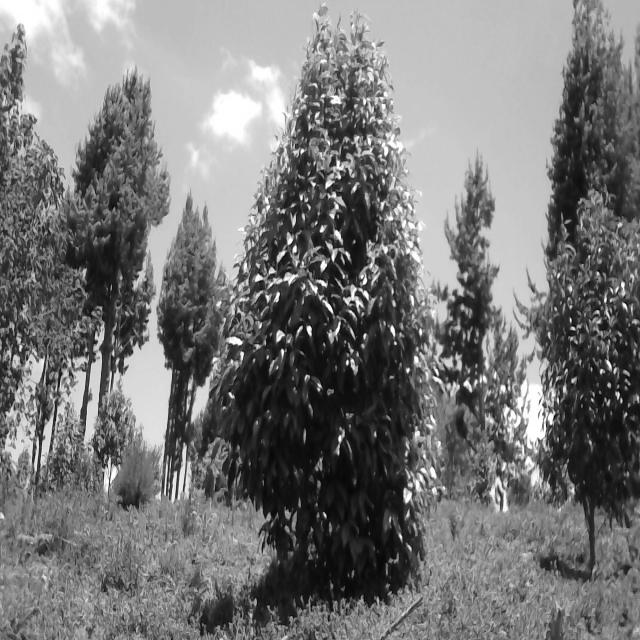Croton machrostychus: (0, 44, 84, 489)
Juniperus procesera: (434, 146, 526, 519), (85, 61, 161, 470), (158, 185, 220, 515)
Prunus Africana: (215, 0, 435, 599), (531, 199, 640, 549)
